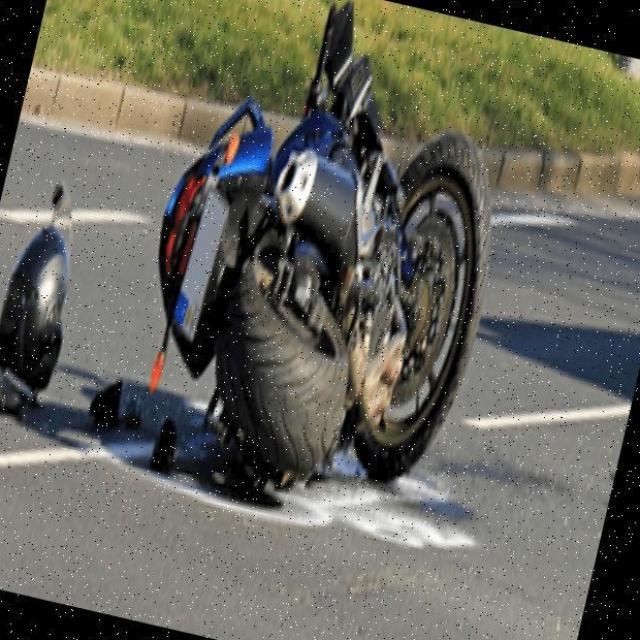accident: (111, 0, 548, 554)
